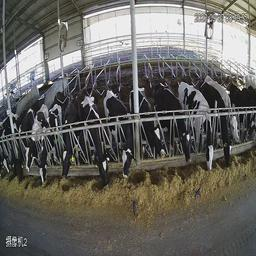cow: (155, 67, 191, 177), (180, 74, 216, 179), (133, 86, 167, 185), (105, 77, 133, 195), (201, 69, 232, 174), (83, 91, 114, 195), (57, 84, 86, 189), (217, 77, 243, 159), (39, 91, 58, 199), (9, 90, 23, 193), (26, 94, 41, 185), (2, 100, 14, 180)
